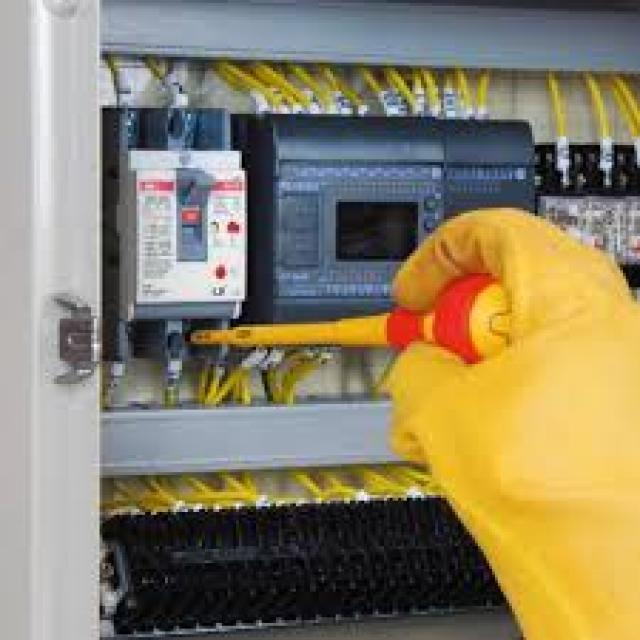screwdriver: (177, 266, 534, 383)
